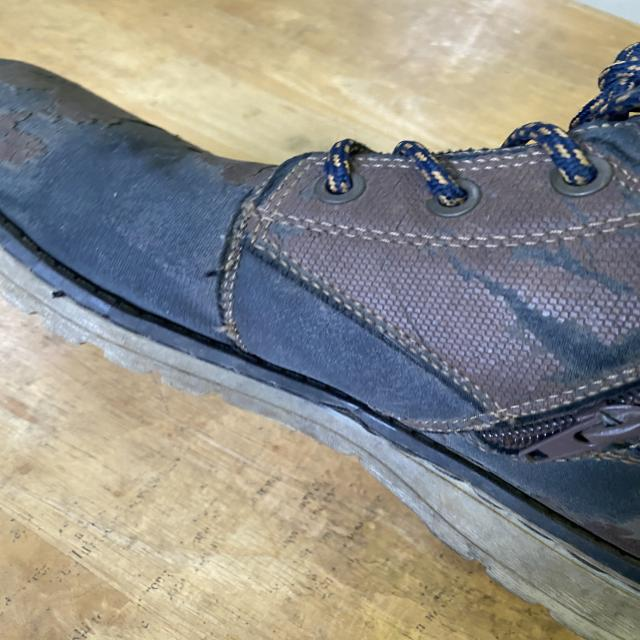broken-error: (192, 255, 240, 286), (202, 318, 238, 344)
